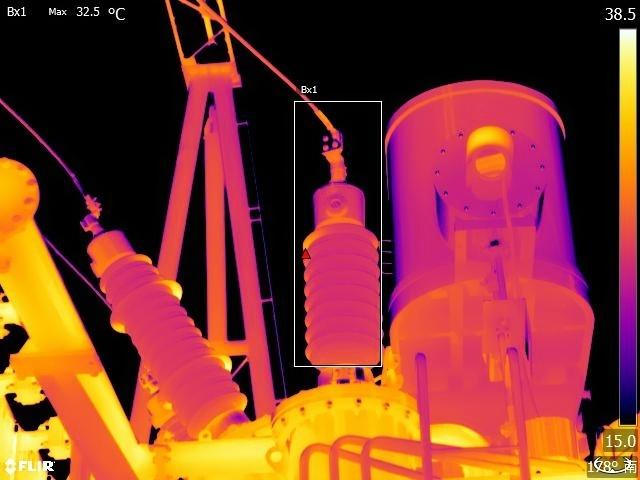oil conservator: (379, 59, 602, 433)
tube: (71, 203, 261, 433), (297, 174, 385, 372)
